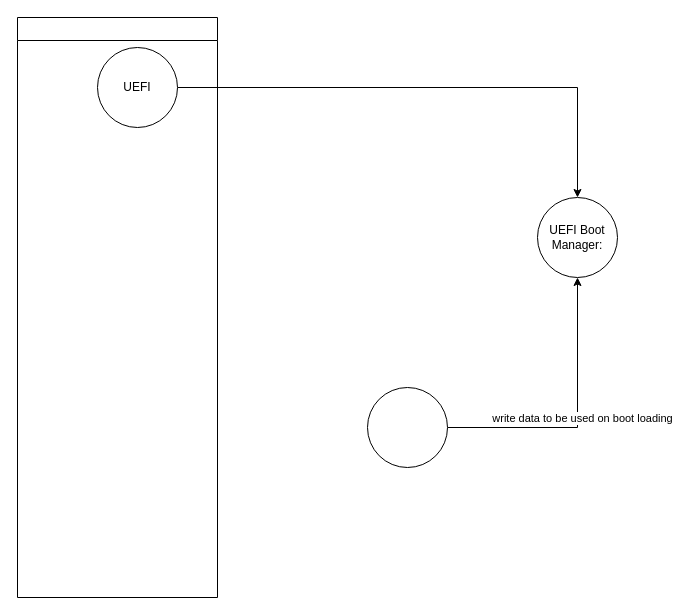
This 689x615 diagram has some shape labels left out. Here are the shapes that lost their labels. From the top down, the box of each, then its label:
(16, 16, 218, 598): Firware
(366, 386, 448, 468): OS
